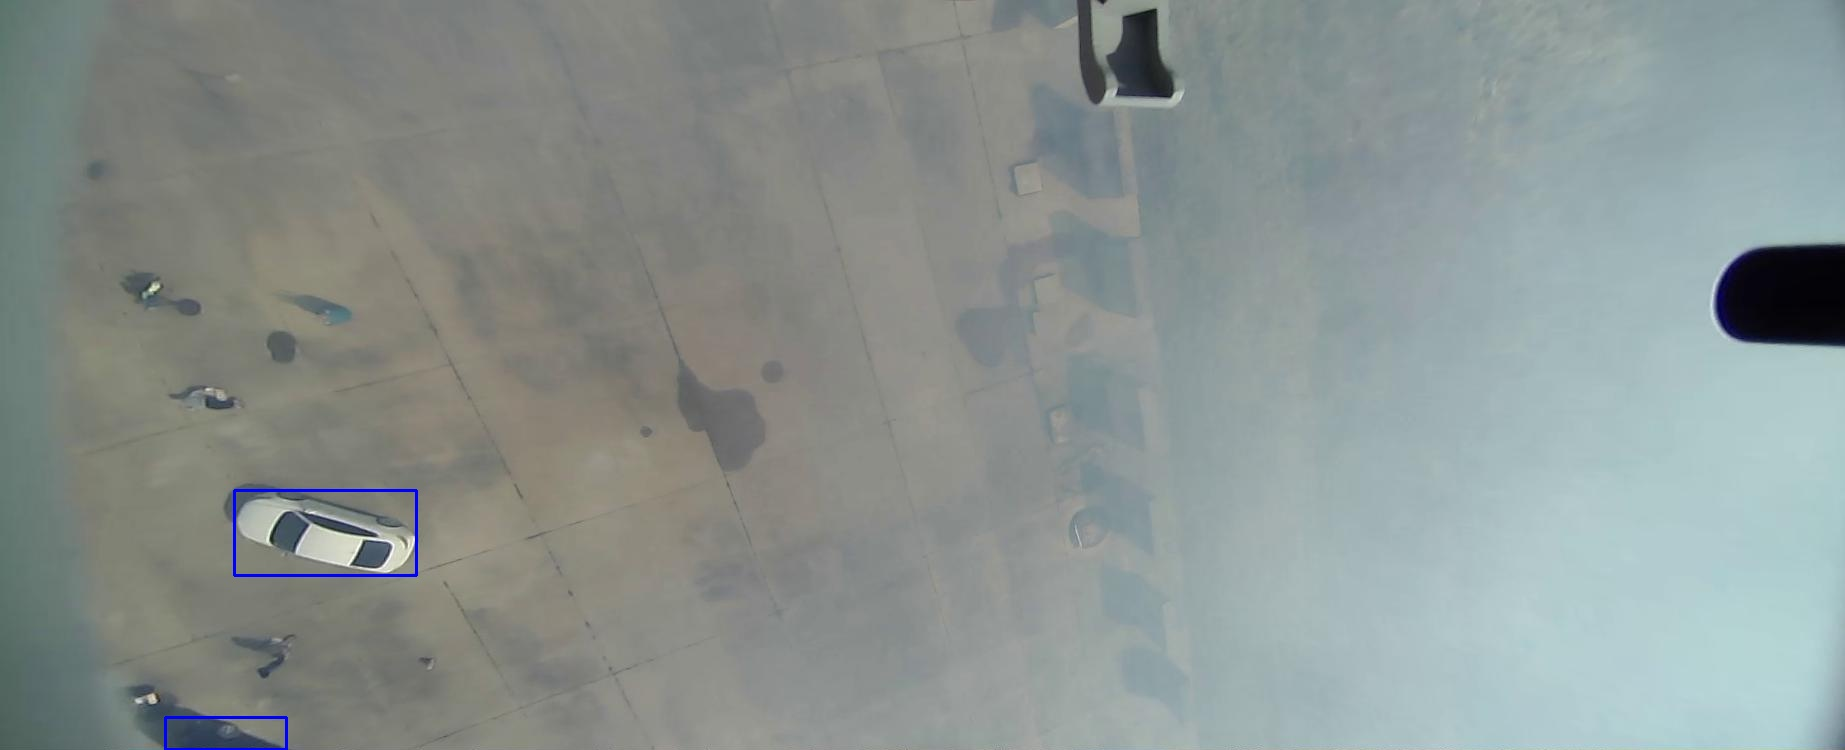vehicle: (489, 234, 575, 416), (717, 165, 750, 286)
